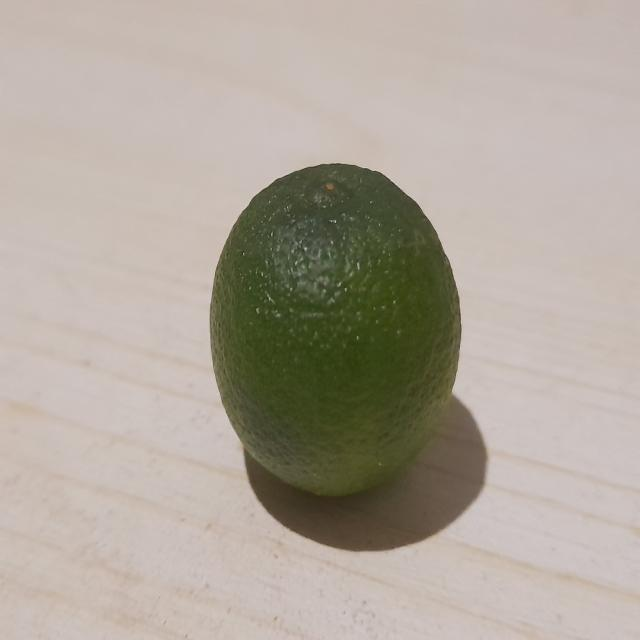heathy: (210, 155, 472, 506)
